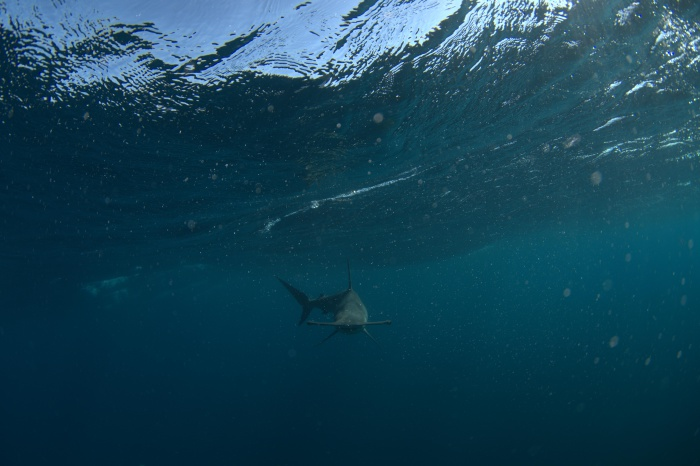Hammer: (260, 248, 411, 368)
